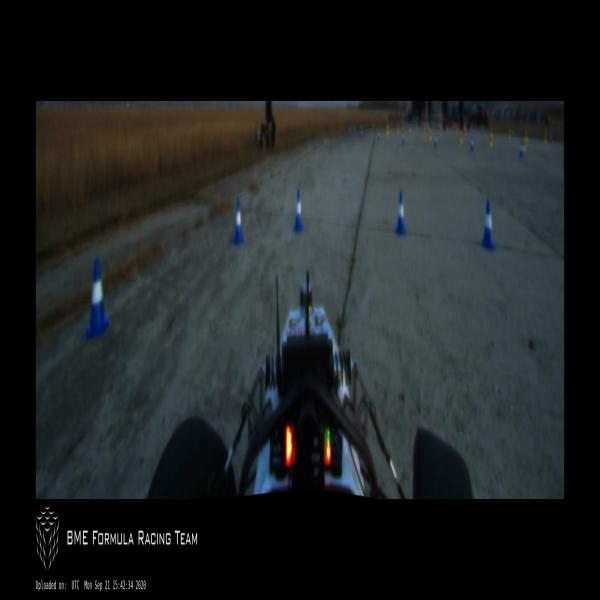blue_cone: (83, 258, 109, 342), (480, 199, 494, 251), (232, 198, 244, 246), (395, 191, 406, 236), (293, 189, 304, 232), (470, 136, 474, 152), (434, 132, 438, 147), (402, 131, 405, 143), (520, 139, 522, 156), (353, 124, 356, 134), (377, 129, 380, 139), (349, 123, 351, 134)
yellow_cone: (522, 136, 526, 152), (489, 132, 493, 146), (429, 128, 432, 140), (386, 123, 389, 135), (544, 132, 547, 144), (460, 131, 462, 144)
